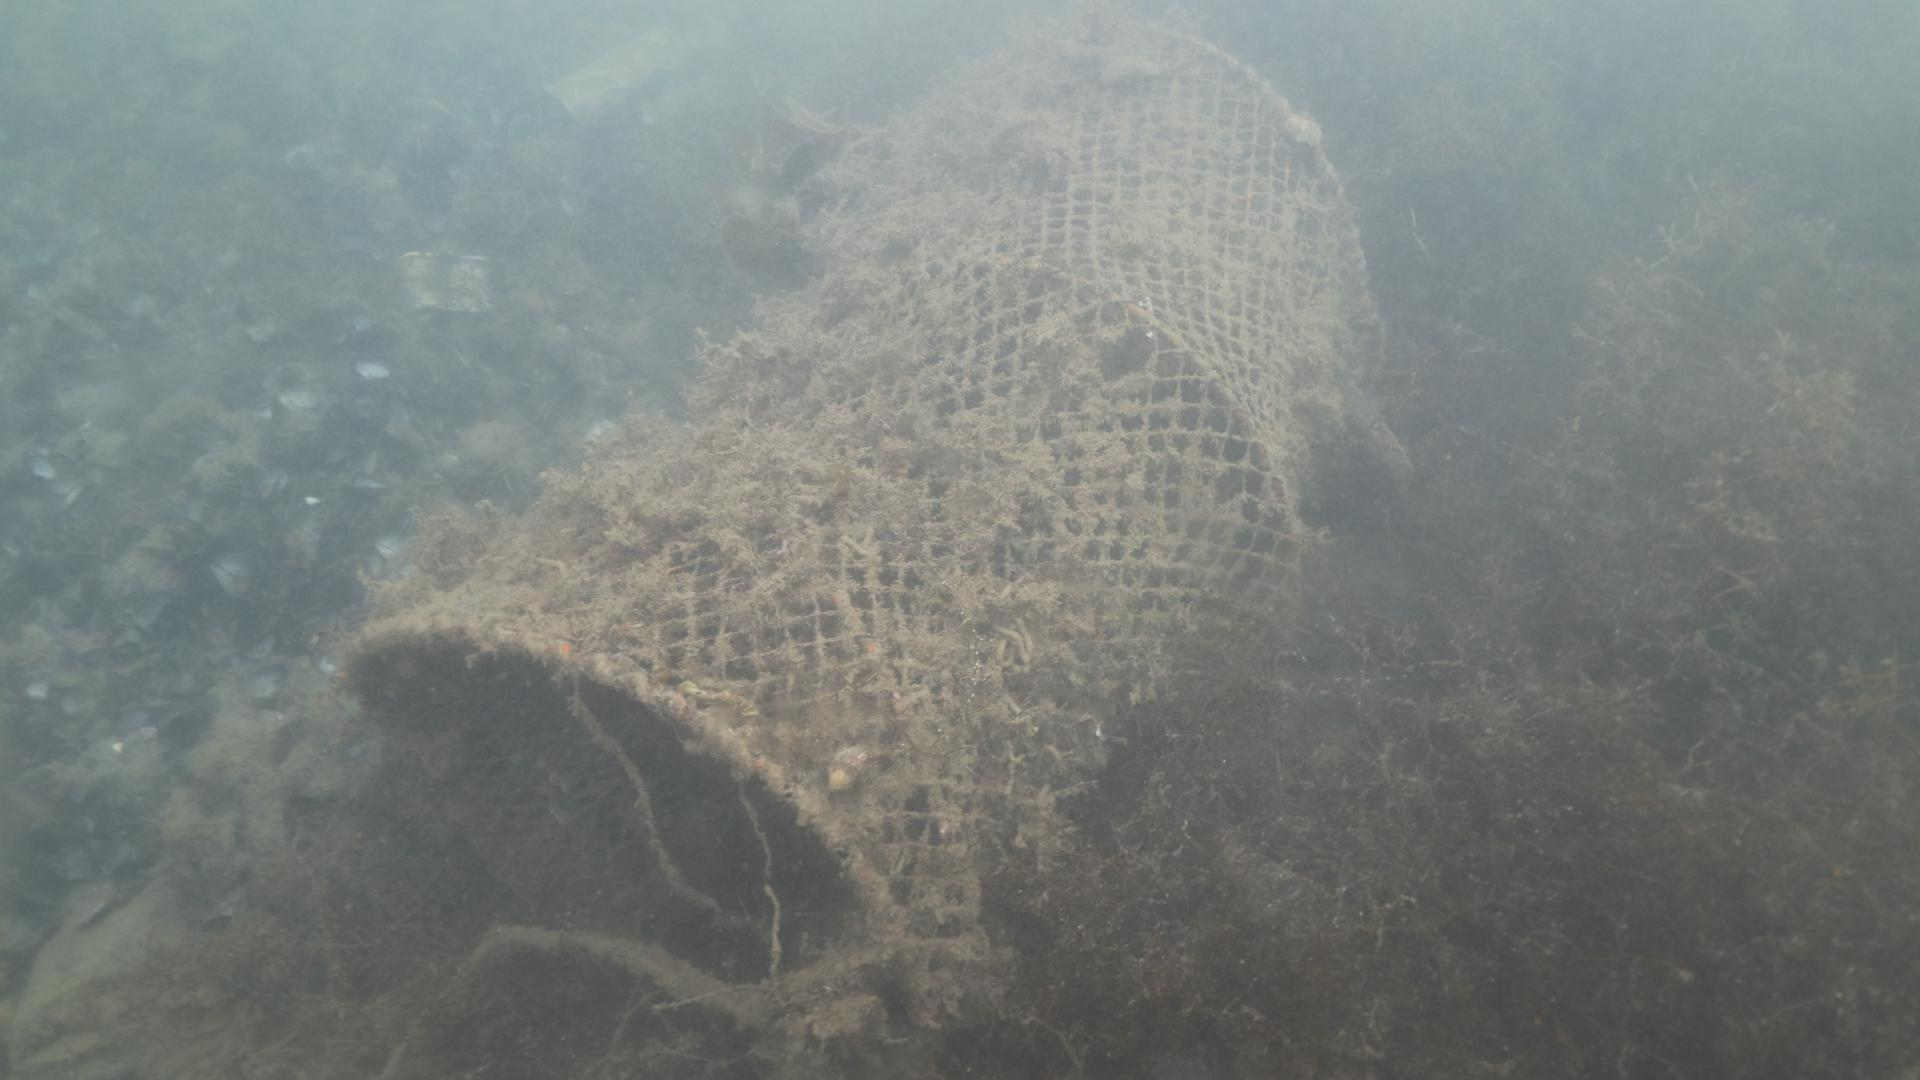spring fish trap: (340, 20, 1375, 1080)
